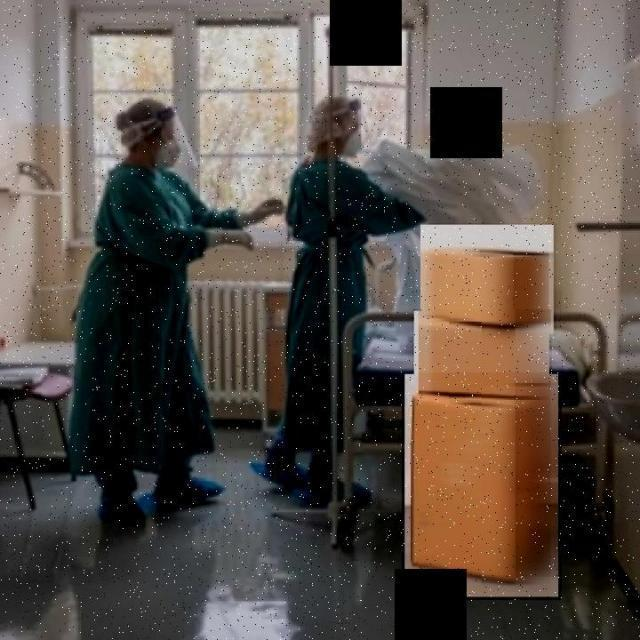box: (402, 372, 562, 600), (421, 223, 558, 337), (412, 309, 552, 409)
